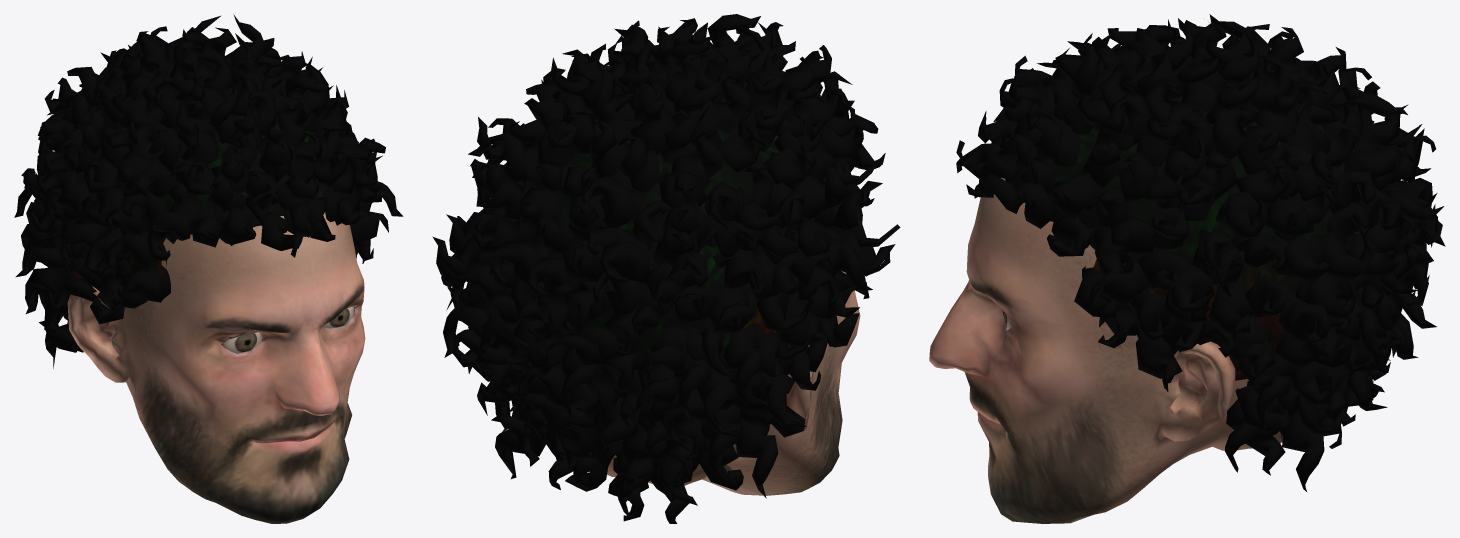
File: jmk-head.glb
3 views of the same model, side by side, from view 1: azimuth 30°, elevation 25°; view 2: azimuth 150°, elevation 25°; view 3: azimuth 270°, elevation 25° (orthographic). The views are drawn at different scales.
Parts seen in each view (by area): view 1: yemek_hair.001, yemek_face.001, yemek_eyes.001; view 2: yemek_hair.001, yemek_face.001; view 3: yemek_hair.001, yemek_face.001.
Part boxes in pixels (x1=…): yemek_hair.001: x1=14, y1=14, x2=403, y2=368; yemek_face.001: x1=67, y1=212, x2=365, y2=523; yemek_eyes.001: x1=221, y1=306, x2=354, y2=353; yemek_hair.001: x1=432, y1=14, x2=900, y2=523; yemek_face.001: x1=607, y1=271, x2=860, y2=495; yemek_hair.001: x1=956, y1=14, x2=1445, y2=491; yemek_face.001: x1=929, y1=177, x2=1282, y2=523.
Size of the model in its own units: 0.228 by 0.2903 by 0.2792.
Materials: 6 (6 with a texture image).
